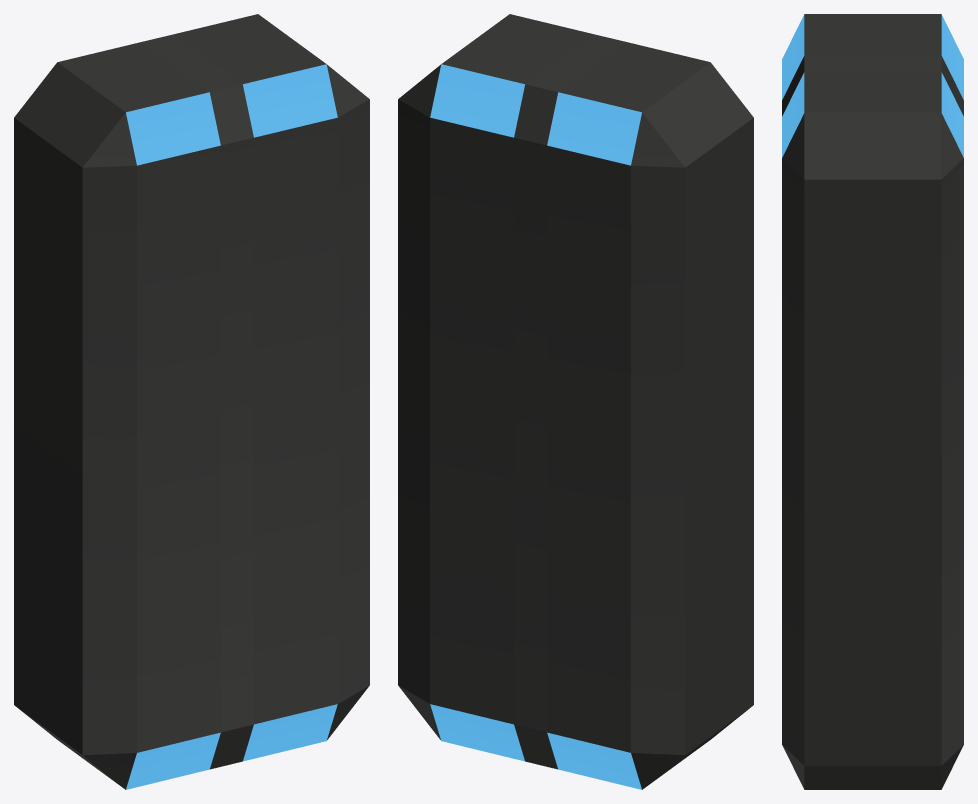
File: Mag_M_mesh.fbx
3 renders of one model, left to right at view 1: azimuth 30°, elevation 25°; view 2: azimuth 150°, elevation 25°; view 3: azimuth 270°, elevation 25°, orthographic.
Parts seen in each view (by area): view 1: Mag_M_mesh; view 2: Mag_M_mesh; view 3: Mag_M_mesh.
Boxes of the visible parts, x1,y1,x2,y2 form: Mag_M_mesh: (14, 14, 369, 789); Mag_M_mesh: (398, 14, 753, 789); Mag_M_mesh: (782, 14, 963, 789).
Bounding box in the file's own units: 5.43 × 12.24 × 2.97.
Materials: 2 (1 with a texture image).
